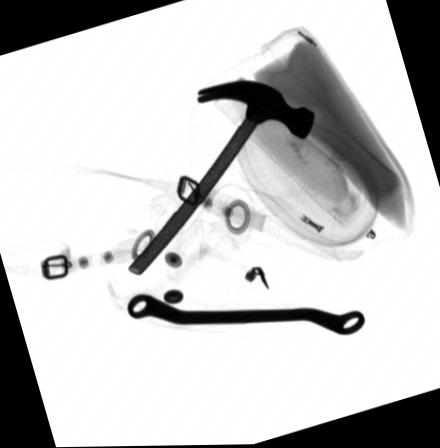Hammer: (126, 80, 316, 274)
Wrench: (126, 294, 364, 334)
